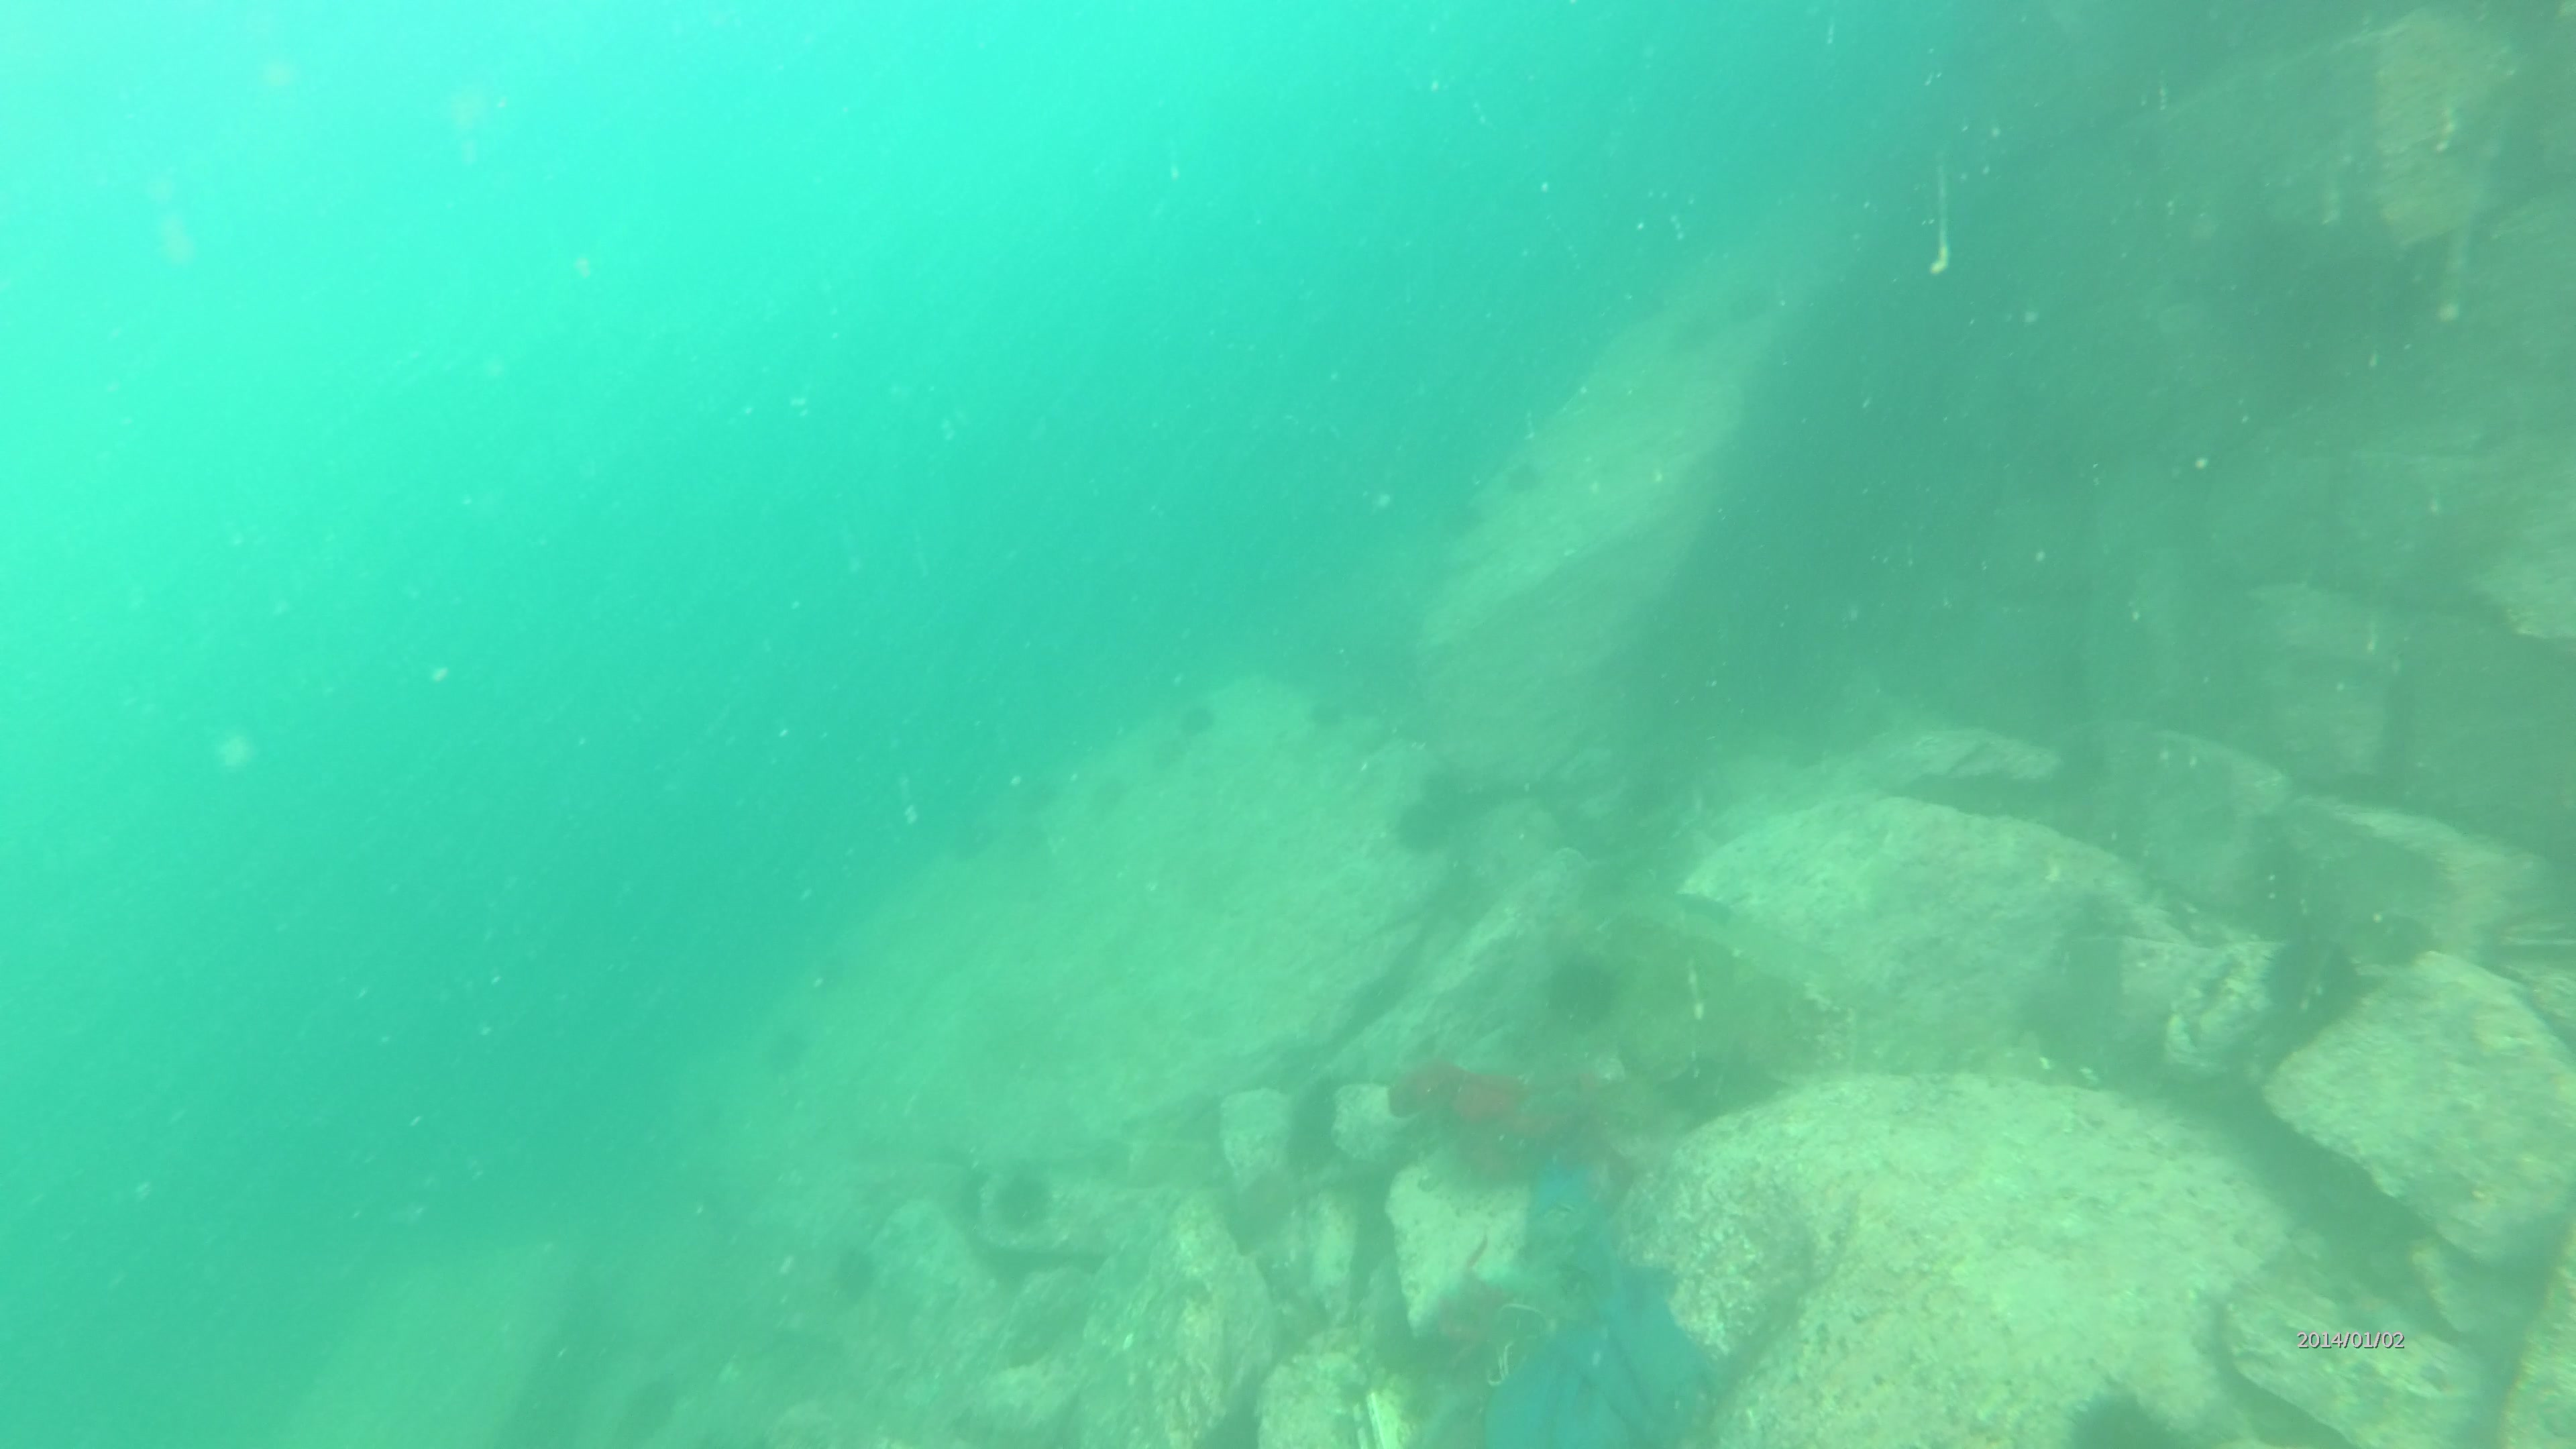echinus: (2250, 925, 2373, 1030), (1534, 952, 1622, 1039), (991, 1169, 1074, 1231), (826, 1244, 883, 1309), (1380, 800, 1440, 851)
